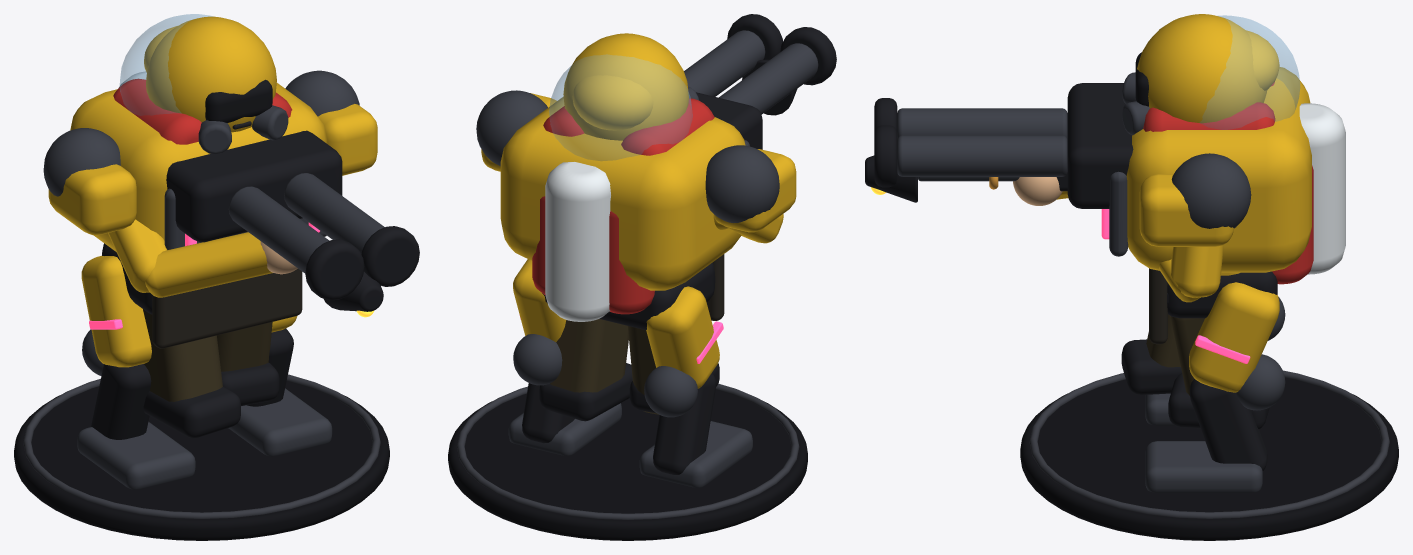
File: braender.glb
The picture shows the model from 3 angles, left to right: view 1: azimuth 30°, elevation 25°; view 2: azimuth 150°, elevation 25°; view 3: azimuth 270°, elevation 25°; orthographic projection. The views are drawn at different scales.
Visible parts, largest first — view 1: fod_net, vaaben5_net, benV5_net, skuldre5_net, hoved_net, op4.003_net, skuldre_net, op3_net, benV_net, benH5_net, hoved5_net, benH_net (+2 smaller); view 2: fod_net, op4.003_net, vaaben5_net, benV5_net, hoved5_net, op1_net, skuldre5_net, benH5_net, benH_net, hoved_net, ned4_net, benV_net (+3 smaller); view 3: fod_net, vaaben5_net, op4.003_net, benH5_net, hoved_net, skuldre5_net, hoved5_net, op1_net, skuldre_net, benV_net, benH_net, op3_net (+5 smaller).
Part boxes in pixels (x1,y1,x2,y2): fod_net: [14, 374, 389, 540]; vaaben5_net: [113, 78, 419, 300]; benV5_net: [77, 255, 195, 489]; skuldre5_net: [43, 70, 377, 235]; hoved_net: [146, 16, 276, 132]; op4.003_net: [70, 82, 327, 314]; skuldre_net: [108, 219, 297, 297]; op3_net: [152, 268, 302, 348]; benV_net: [143, 309, 240, 438]; benH5_net: [228, 315, 332, 456]; hoved5_net: [119, 14, 213, 115]; benH_net: [217, 322, 279, 405]; fod_net: [448, 383, 807, 540]; op4.003_net: [500, 97, 749, 329]; vaaben5_net: [543, 14, 836, 155]; benV5_net: [639, 286, 752, 487]; hoved5_net: [549, 54, 692, 160]; op1_net: [545, 162, 610, 321]; skuldre5_net: [476, 90, 796, 232]; benH5_net: [508, 259, 621, 455]; benH_net: [539, 319, 632, 421]; hoved_net: [563, 33, 688, 140]; ned4_net: [532, 196, 715, 314]; benV_net: [627, 326, 719, 414]; fod_net: [1020, 370, 1398, 540]; vaaben5_net: [874, 82, 1275, 208]; op4.003_net: [1101, 67, 1311, 318]; benH5_net: [1145, 282, 1285, 492]; hoved_net: [1135, 14, 1267, 123]; skuldre5_net: [1139, 153, 1251, 246]; hoved5_net: [1200, 15, 1300, 129]; op1_net: [1299, 103, 1345, 274]; skuldre_net: [1013, 177, 1223, 302]; benV_net: [1121, 314, 1181, 394]; benH_net: [1168, 316, 1269, 428]; op3_net: [1149, 268, 1167, 344].
Size of the model in its own units: 2 by 2.6 by 2.82.
